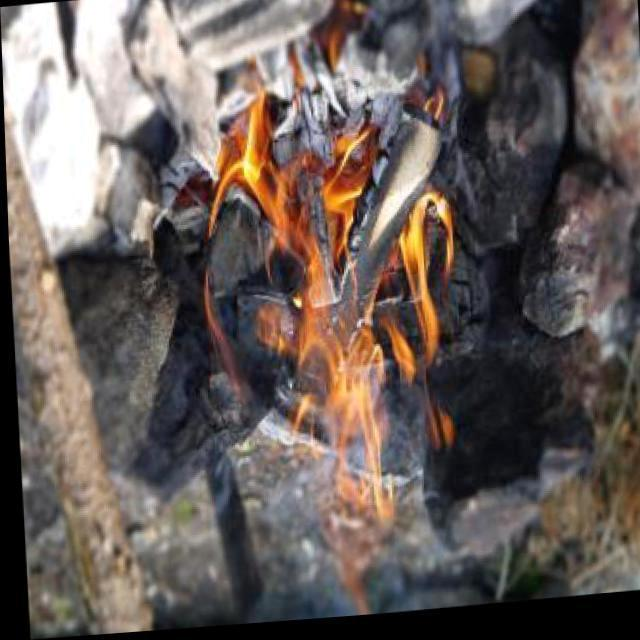fire: (198, 82, 460, 494)
